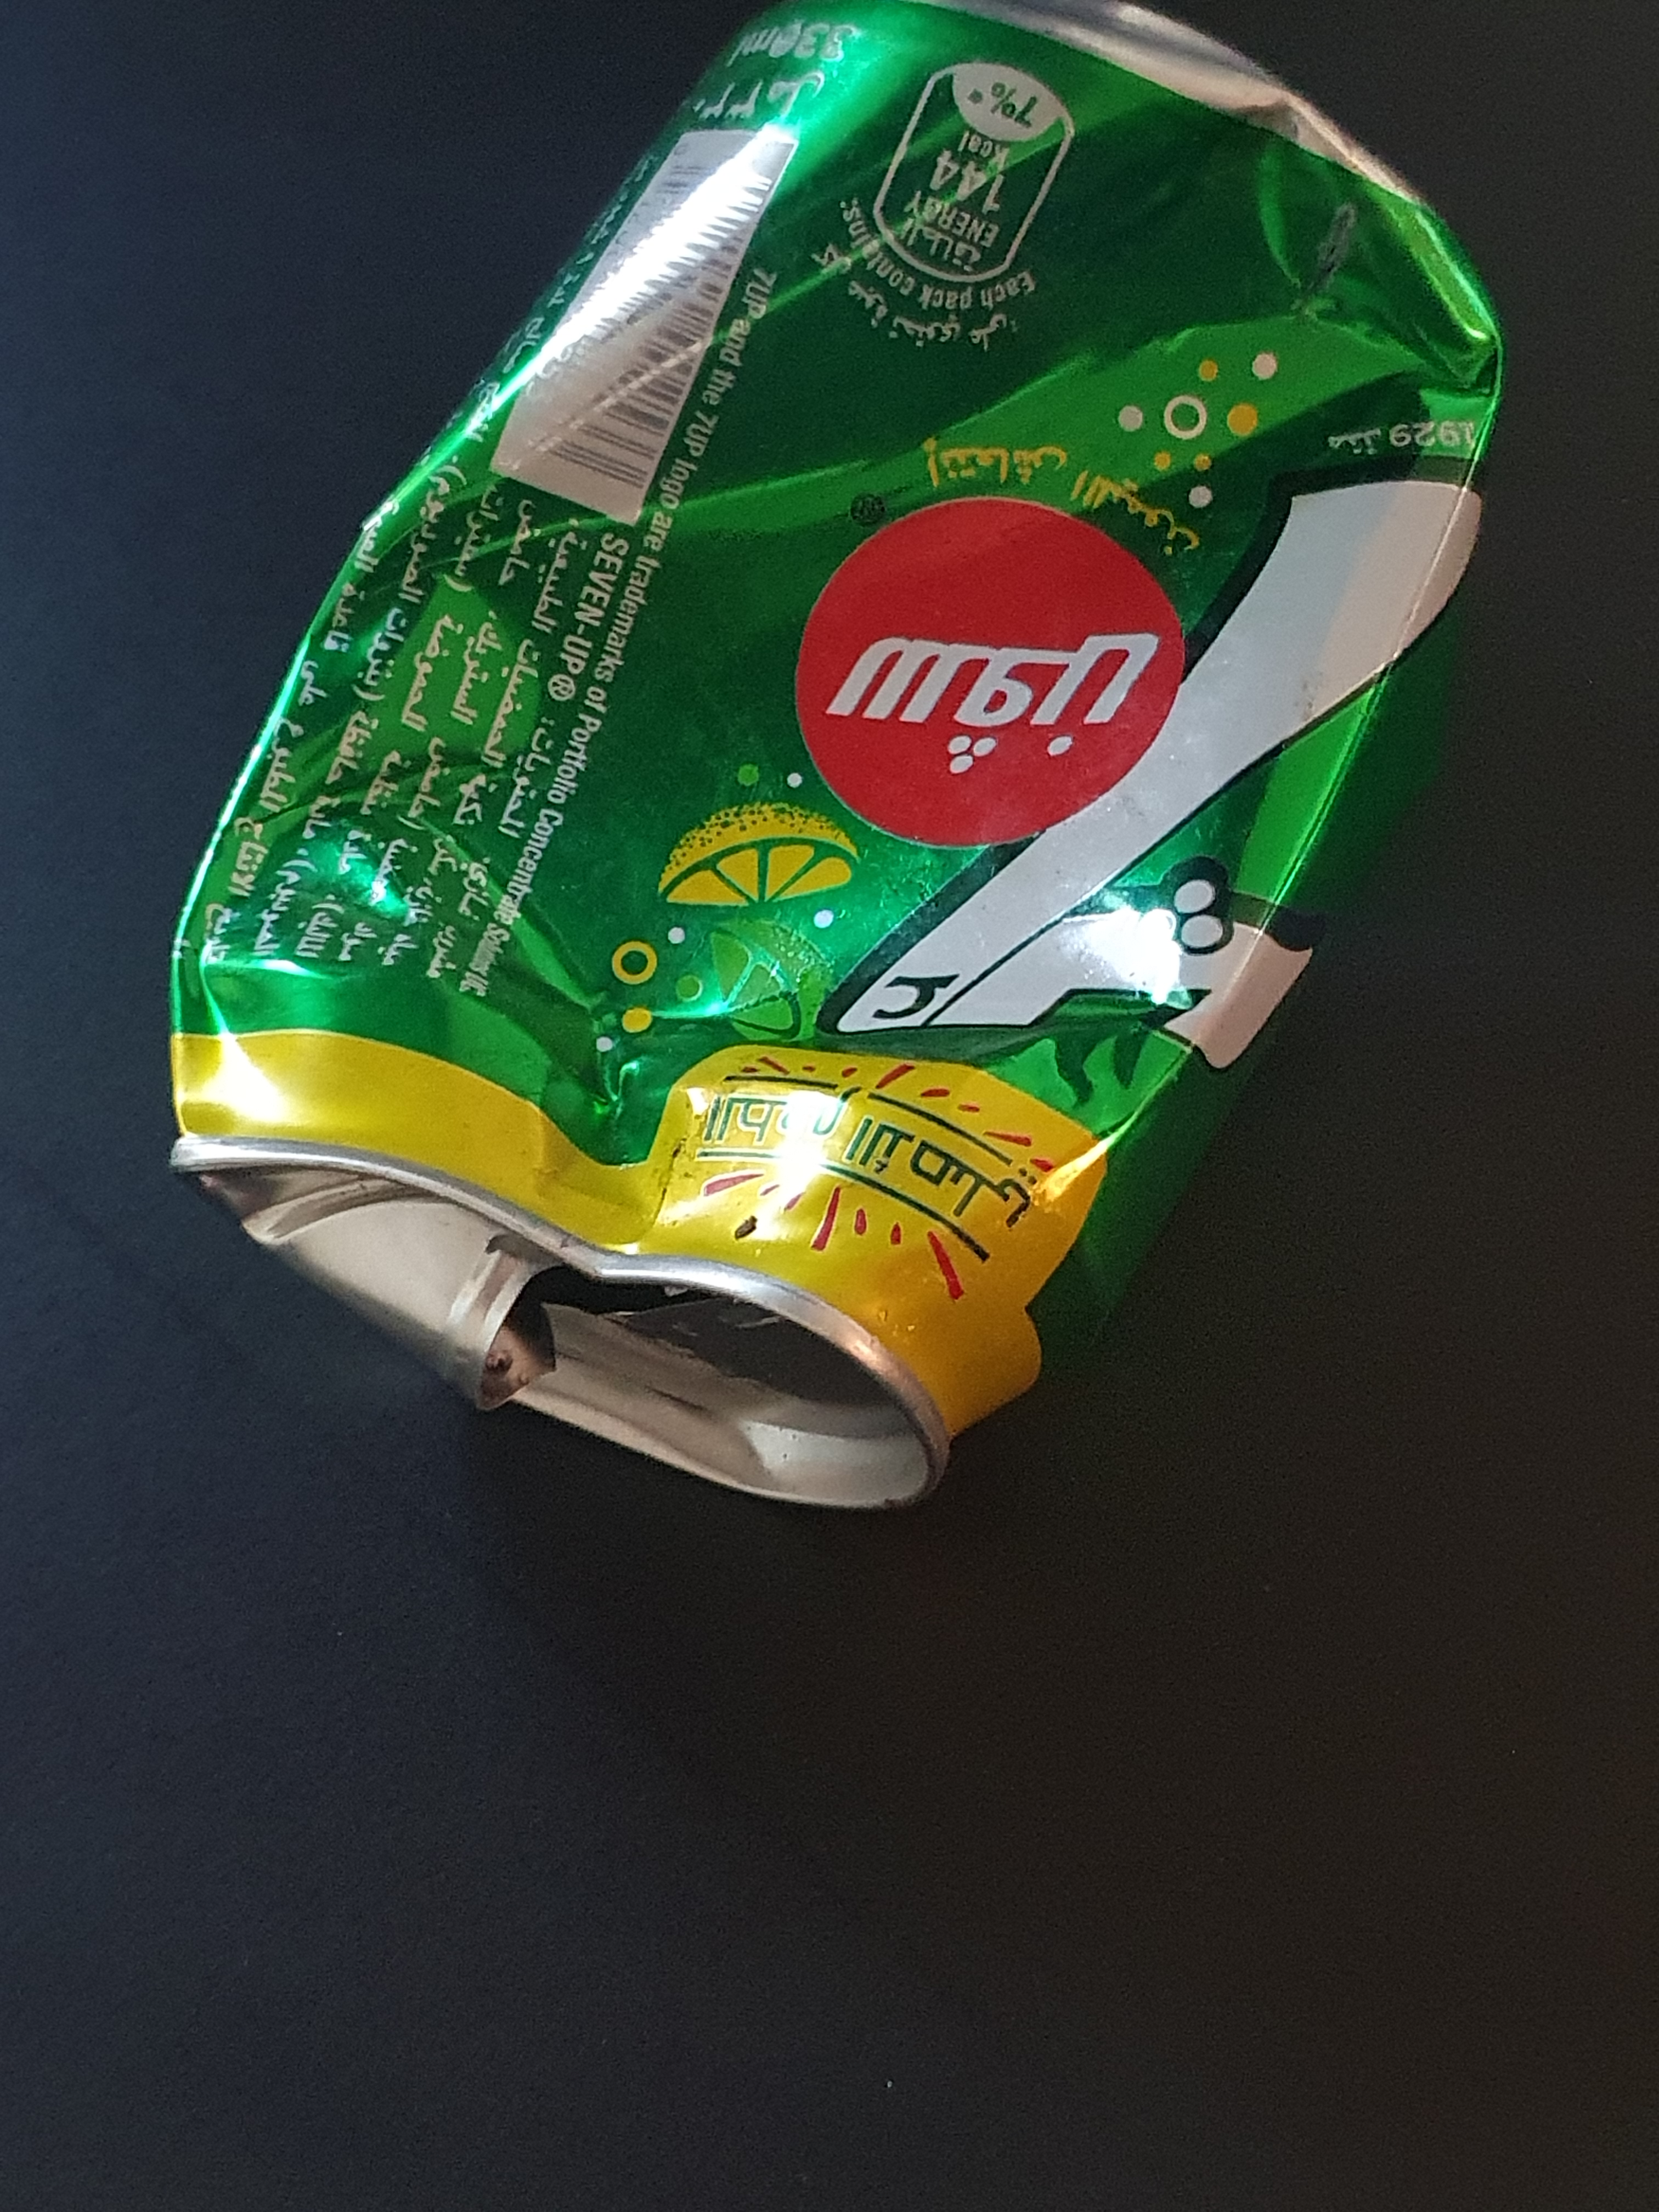metal: (134, 0, 1527, 1609)
